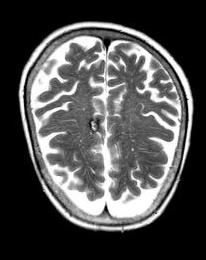Normal_Brain: (1, 1, 206, 254)
